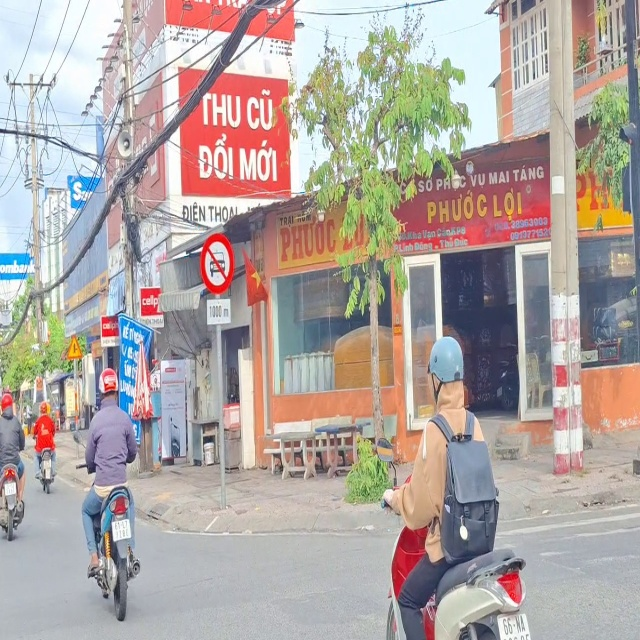cam oto: (194, 216, 238, 298)
